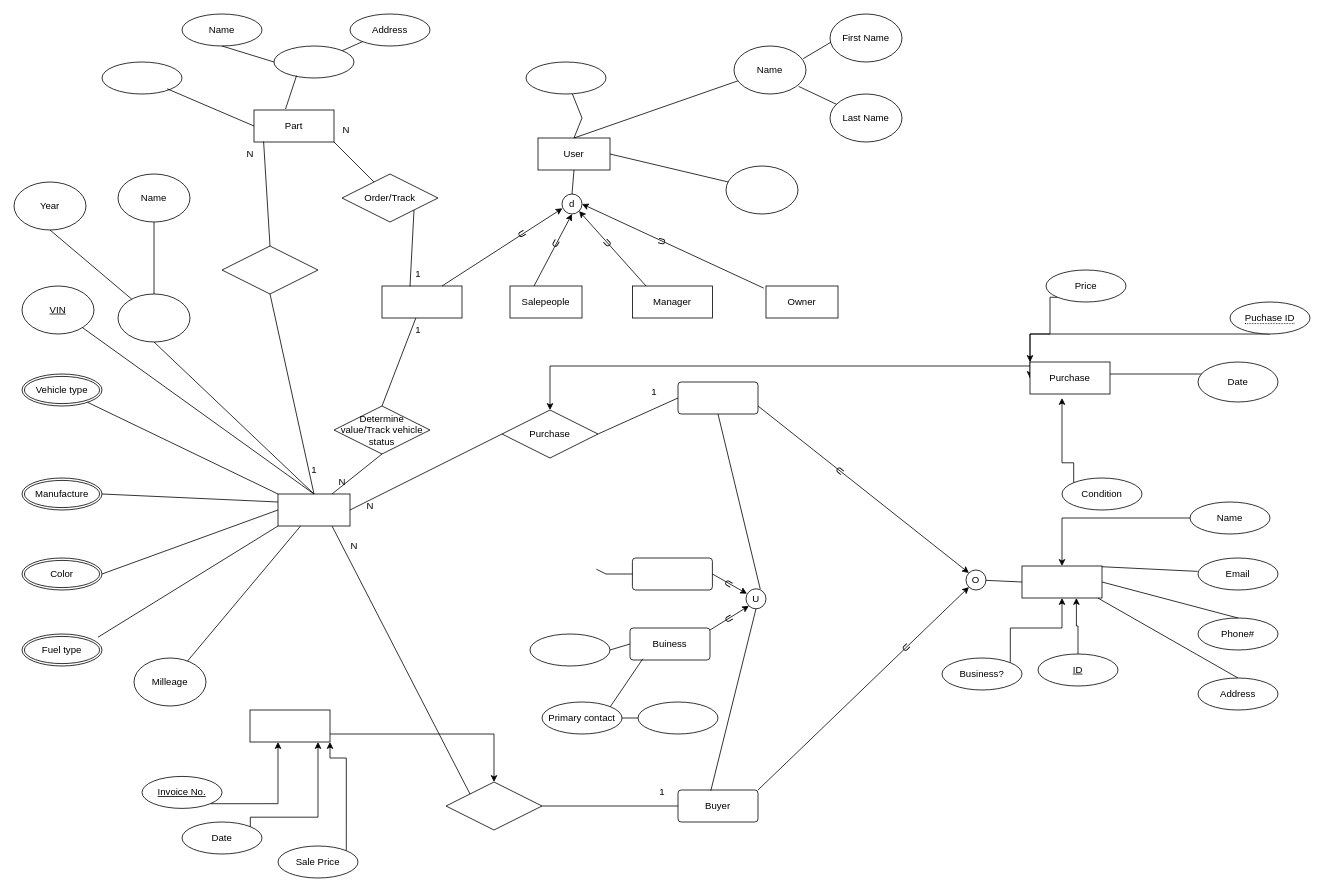
The diagram is 1324 pixels wide and 892 high, and some of its shapes have lost their labels. Here are the shapes that lost their labels. From the top down, the centre of each, then its label:
At (x=141, y=77): "Order #".
At (x=313, y=61): "Vendor".
At (x=565, y=77): "User Name".
At (x=761, y=189): "Password".
At (x=269, y=269): "Pending".
At (x=153, y=317): "Model".
At (x=421, y=301): "Inventory clerk".
At (x=717, y=397): "Seller".
At (x=313, y=509): "Vehicle".
At (x=672, y=573): "Individual".
At (x=1061, y=581): "Customer".
At (x=569, y=649): "TIN".
At (x=289, y=725): "Sales Table".
At (x=677, y=717): "Title".
At (x=493, y=805): "Sale".
